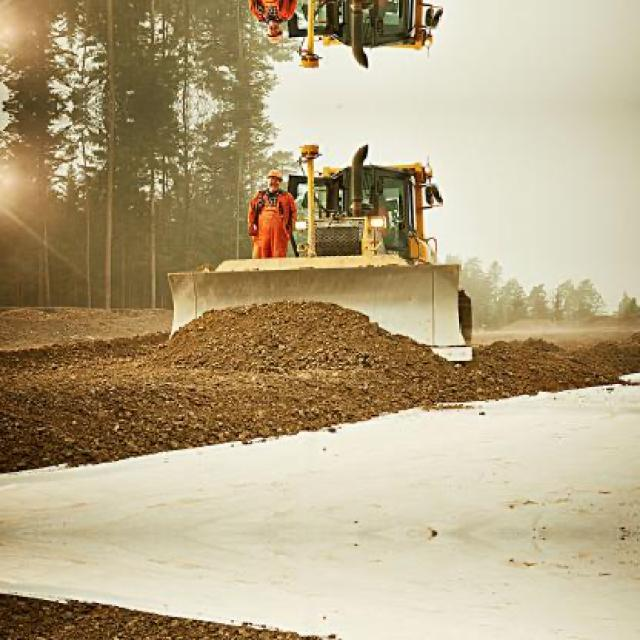con casco: (232, 160, 288, 218)
